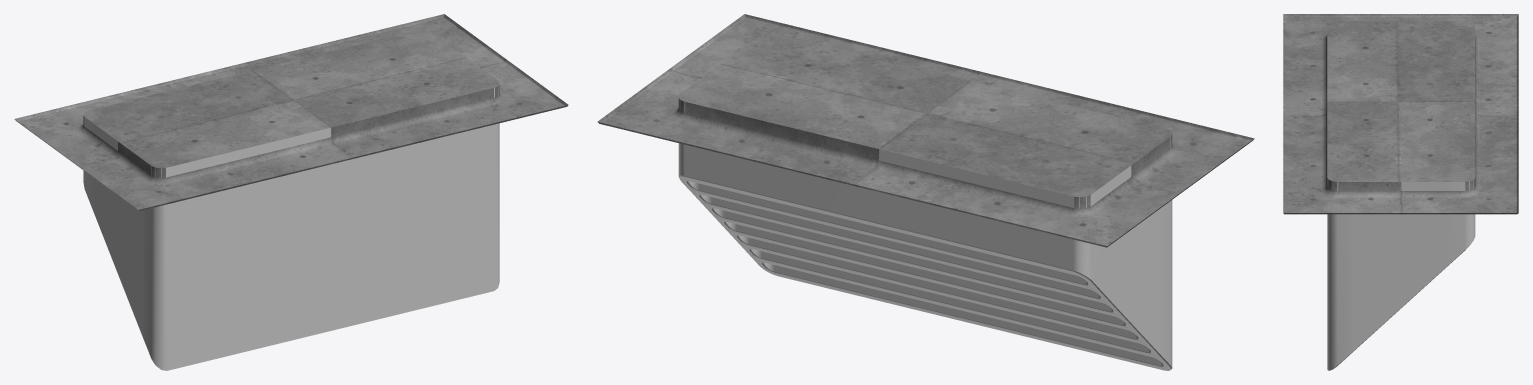
File: SM_Ceiling_Vent_01.fbx
The picture shows the model from 3 angles, left to right: view 1: azimuth 30°, elevation 25°; view 2: azimuth 150°, elevation 25°; view 3: azimuth 270°, elevation 25°; orthographic projection. The views are drawn at different scales.
Parts seen in each view (by area): view 1: SM_Ceiling_Vent_01; view 2: SM_Ceiling_Vent_01; view 3: SM_Ceiling_Vent_01.
Boxes of the visible parts, box(x1,y1,x2,y2) form: SM_Ceiling_Vent_01: box(14, 14, 568, 370); SM_Ceiling_Vent_01: box(597, 14, 1254, 370); SM_Ceiling_Vent_01: box(1283, 14, 1518, 370).
Bounding box in the file's own units: 400 × 181 × 200.
